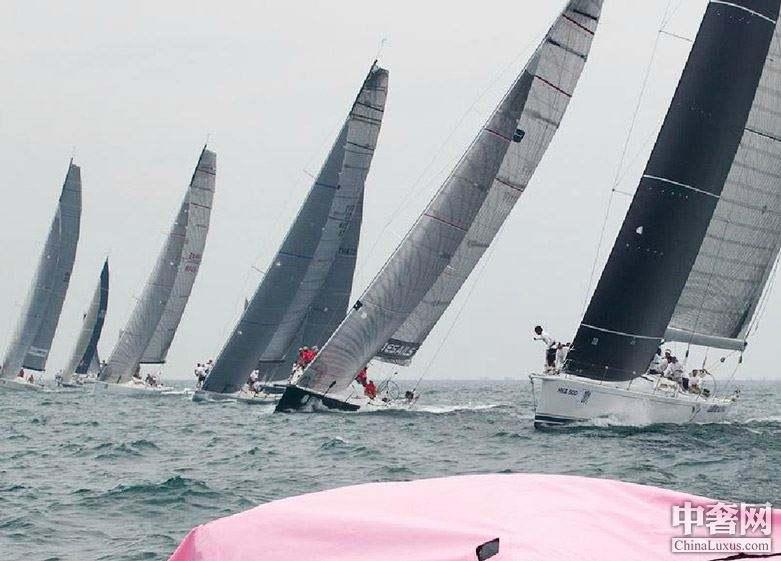fanchuan: (271, 1, 618, 421), (514, 1, 781, 430), (179, 61, 421, 405), (89, 141, 234, 400), (3, 157, 114, 392), (52, 257, 127, 395)
